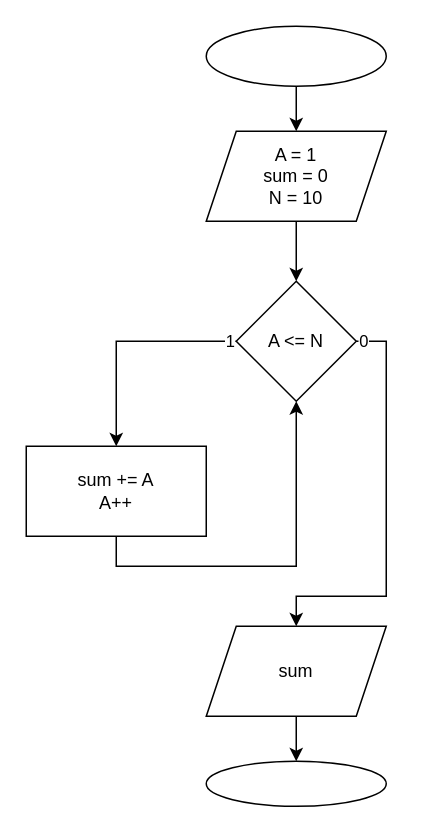
Image size: 425x833. Some labels were removed from this diagram. The shapes that lost their labels are listed below. From the top down, each one's box as (x1, y1, x2, y2) in pixels, then its label:
(205, 25, 386, 86): Начало
(205, 760, 386, 806): Конец
